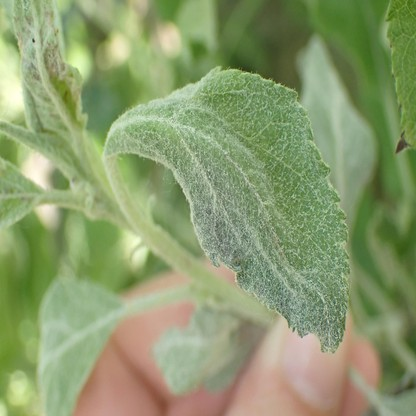powdery_mildew: (104, 65, 350, 354), (38, 279, 121, 416), (11, 0, 89, 139), (152, 309, 247, 395), (0, 160, 40, 229)
